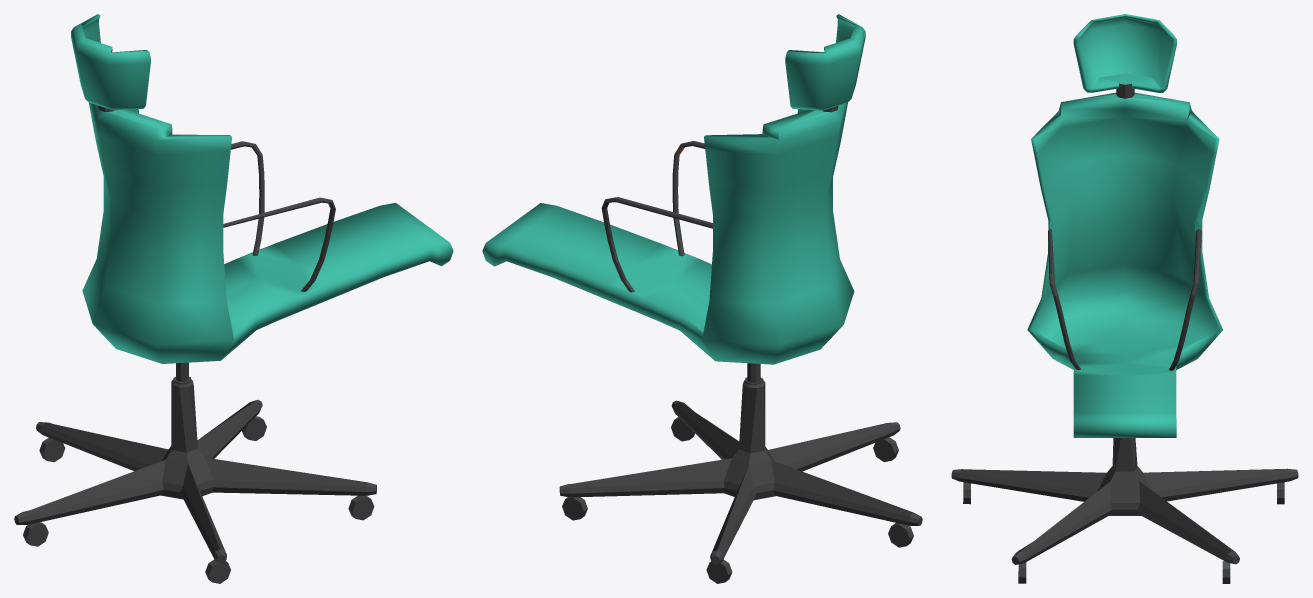
Rendered from SillaEscritorio.fbx.
3 renders of one model, left to right at view 1: azimuth 30°, elevation 25°; view 2: azimuth 150°, elevation 25°; view 3: azimuth 270°, elevation 25°, orthographic. The views are drawn at different scales.
Parts seen in each view (by area): view 1: Cylinder; view 2: Cylinder; view 3: Cylinder.
Boxes of the visible parts, x1,y1,x2,y2 form: Cylinder: [14, 14, 453, 583]; Cylinder: [482, 14, 922, 583]; Cylinder: [951, 14, 1298, 583].
Bounding box in the file's own units: 0.6157 × 0.7103 × 0.4781.
